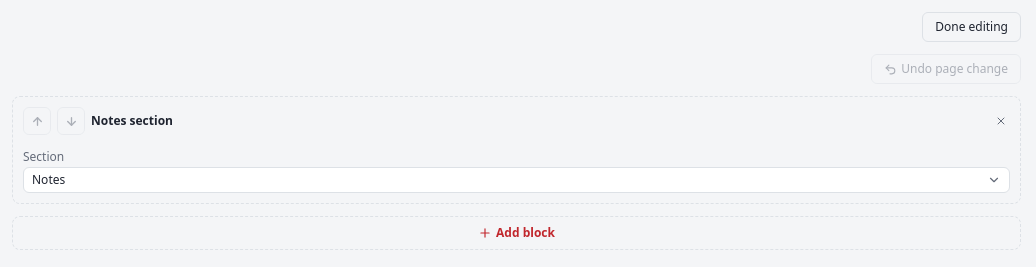
Scenario: PageEditor › removes a block
Expected: the button "Add block" is shown, x1=12 y1=216 x2=1021 y2=250
Click the button named "Remove Notes section" at (1001, 121), box x1=992 y1=112 x2=1010 y2=130
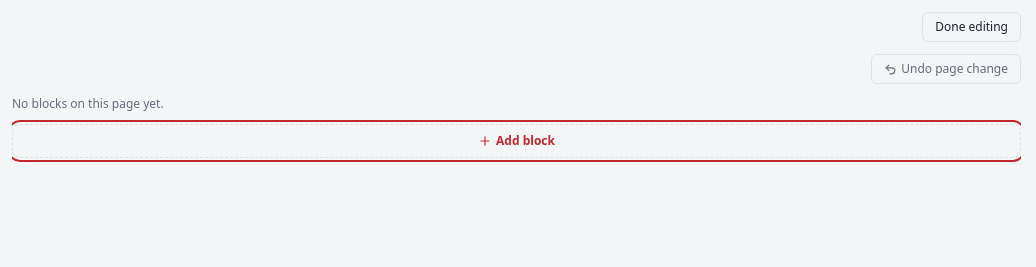
Now the text "No blocks on this page yet." is shown, box x1=12 y1=95 x2=164 y2=112
